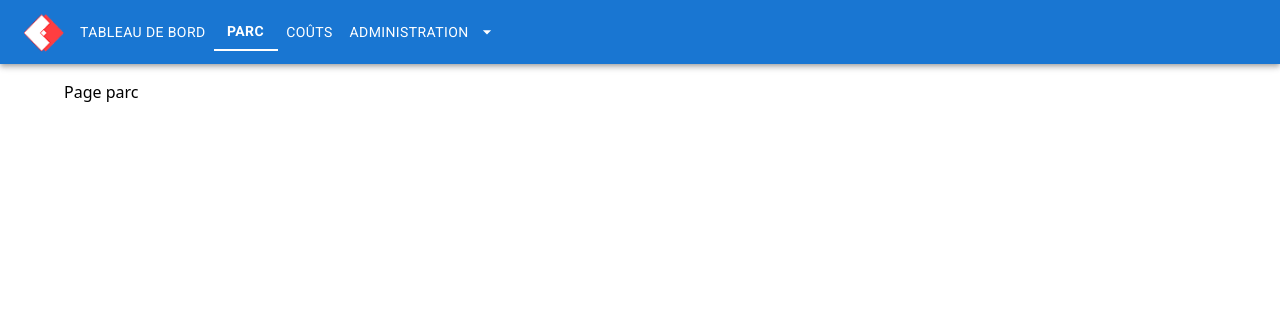
AppLayout desktop › affiche les entrées du quotidien et le menu Administration
Expected: the link "Tableau de bord" is shown, 80,24 -> 206,40
Expected: the link "Garages" is not shown
Click the button "Administration". click: click(421, 32)
box: 342,13 -> 501,51
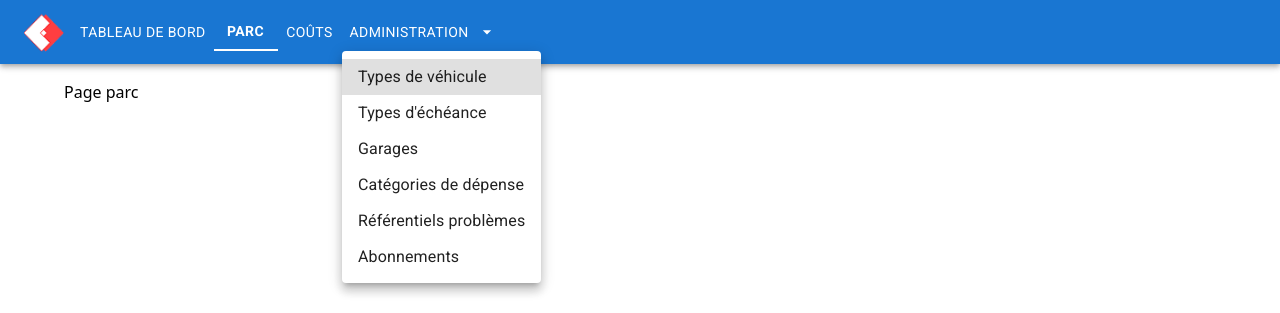
Expected: the menu item "Types de véhicule" is shown, 342,59 -> 541,95
Expected: the menu item "Types d'échéance" is shown, 358,103 -> 487,122
Expected: the menu item "Garages" is shown
Click the menu item "Garages". click: click(388, 148)
box: 358,139 -> 418,158
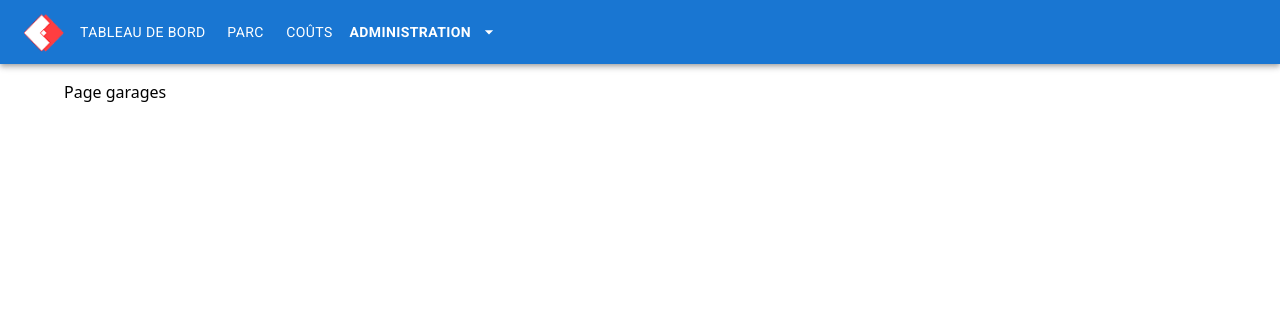
Expected: the text "Page garages" is shown, 64,81 -> 166,103
